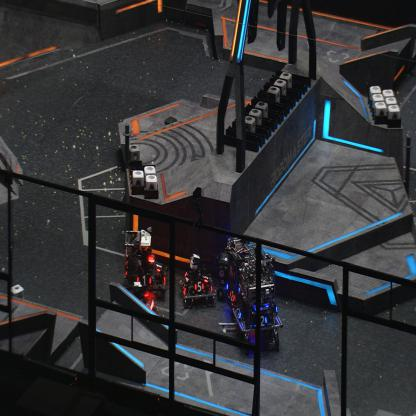car: (231, 246, 282, 345), (123, 227, 168, 298), (226, 241, 261, 313), (179, 251, 216, 309), (216, 237, 248, 301), (121, 279, 158, 330)
